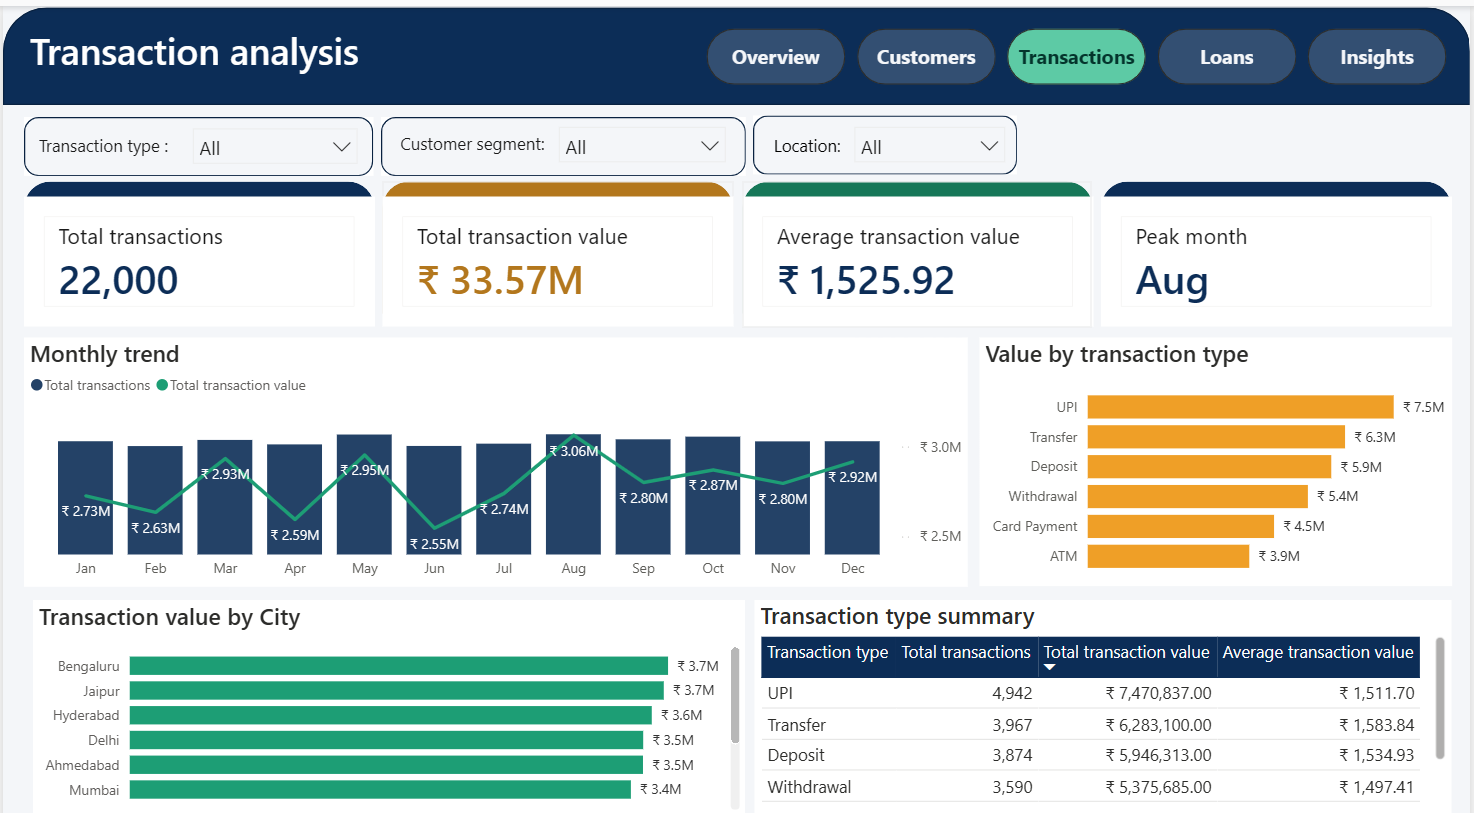

The page's visual inventory and layout, read from the dashboard file:
{"tool":"powerbi","page":{"name":"Transactions","canvas":[1280,720],"ordinal":2},"visuals":[{"type":"shape","box":[0,1.5,1279.5,85],"z":0},{"type":"textbox","box":[18.2,12.1,569.3,74.2],"z":1000},{"type":"shape","box":[18.2,153.4,305.5,115.1],"z":1000,"group":"g7"},{"type":"group","id":"g1","title":"Group 1","box":[18.3,96.5,304.4,51.5],"z":2000},{"type":"group","id":"g2","title":"Group 1","box":[329.1,95.5,318,53],"z":3000},{"type":"shape","box":[331.2,153.4,305.5,115.1],"z":3000,"group":"g6"},{"type":"pageNavigator","box":[613.3,19.7,649.6,50],"z":4000},{"type":"group","id":"g3","title":"Group 1","box":[653.4,95.4,230.2,51.5],"z":5000},{"type":"shape","box":[644.3,153.4,305.5,115.1],"z":5000,"group":"g5"},{"type":"shape","box":[653.4,95.4,230.2,51.6],"z":5500,"group":"g3"},{"type":"shape","box":[18.3,96.5,304.4,51.5],"z":5500,"group":"g1"},{"type":"shape","box":[329.1,97,318,51.5],"z":5500,"group":"g2"},{"type":"slicer","fields":{"Values":["Locations.City"]},"box":[732.1,95.4,151.4,48.5],"z":6000,"group":"g3"},{"type":"slicer","fields":{"Values":["Customers.Customer_Segment"]},"box":[474.4,95.5,165.6,50.2],"z":6000,"group":"g2"},{"type":"slicer","fields":{"Values":["Transactions.Transaction_Type"]},"box":[155.7,96.5,163.5,48.5],"z":6000,"group":"g1"},{"type":"lineClusteredColumnComboChart","title":"Monthly trend","fields":{"Category":["Date.Month"],"Y":["_Measures.Total transactions"],"Y2":["_Measures.Total transaction value"]},"box":[18.7,289.1,822.6,217.2],"z":6000},{"type":"shape","box":[957.3,153.4,305.5,115.1],"z":7000,"group":"g4"},{"type":"cardVisual","title":"Total Customers","fields":{"Data":["_Measures.Total transactions"]},"box":[18.2,166.5,305.9,113.6],"z":7000,"group":"g7"},{"type":"barChart","title":"Value by transaction type","fields":{"Y":["_Measures.Total transaction value"],"Category":["Transactions.Transaction_Type"]},"box":[851,289.2,411.9,216.5],"z":7000},{"type":"textbox","box":[340.3,105.1,145.9,31.6],"z":8000,"group":"g2"},{"type":"textbox","box":[666.9,105.4,69.2,30.3],"z":8000,"group":"g3"},{"type":"textbox","box":[25.9,105.6,137.8,39.4],"z":8000,"group":"g1"},{"type":"cardVisual","title":"Total Customers","fields":{"Data":["_Measures.Total transaction value"]},"box":[331.6,166.5,305.9,113.6],"z":8000,"group":"g6"},{"type":"tableEx","title":"Transaction type summary","fields":{"Values":["Transactions.Transaction_Type","_Measures.Total transactions","_Measures.Total transaction value","_Measures.Average transaction value"]},"box":[655.7,517.9,607.2,187.8],"z":8000},{"type":"group","id":"g4","title":"Group 2","box":[957,153.4,305.9,126.7],"z":9000},{"type":"cardVisual","title":"Total Customers","fields":{"Data":["_Measures.Average transaction value"]},"box":[644,166.5,305.9,113.6],"z":9000,"group":"g5"},{"type":"group","id":"g5","title":"Group 3","box":[644,153.4,305.9,126.7],"z":10000},{"type":"cardVisual","title":"Total Customers","fields":{"Data":["_Measures.Peak month"]},"box":[957,166.5,305.9,113.6],"z":10000,"group":"g4"},{"type":"group","id":"g6","title":"Group 4","box":[331.2,153.4,306.3,126.7],"z":11000},{"type":"group","id":"g7","title":"Group 5","box":[18.2,153.4,305.9,126.7],"z":12000},{"type":"clusteredBarChart","title":"Transaction value by City","fields":{"Category":["Customers.City"],"Y":["_Measures.Total transaction value"]},"box":[25.7,517.9,620.8,187.8],"z":13000}]}

Visuals, with their boxes in screenshot pixels (x1, y1, x2, y2), scaled from the page's 1280x720 canvas onto the 1474x813 screenshot:
shape: {"left": 0, "top": 2, "right": 1473, "bottom": 98}
textbox: {"left": 21, "top": 14, "right": 677, "bottom": 97}
shape: {"left": 21, "top": 173, "right": 373, "bottom": 303}
"Group 1" group: {"left": 21, "top": 109, "right": 372, "bottom": 167}
"Group 1" group: {"left": 379, "top": 108, "right": 745, "bottom": 168}
shape: {"left": 381, "top": 173, "right": 733, "bottom": 303}
pageNavigator: {"left": 706, "top": 22, "right": 1454, "bottom": 79}
"Group 1" group: {"left": 752, "top": 108, "right": 1018, "bottom": 166}
shape: {"left": 742, "top": 173, "right": 1094, "bottom": 303}
shape: {"left": 752, "top": 108, "right": 1018, "bottom": 166}
shape: {"left": 21, "top": 109, "right": 372, "bottom": 167}
shape: {"left": 379, "top": 110, "right": 745, "bottom": 168}
slicer - Locations.City: {"left": 843, "top": 108, "right": 1017, "bottom": 162}
slicer - Customers.Customer_Segment: {"left": 546, "top": 108, "right": 737, "bottom": 165}
slicer - Transactions.Transaction_Type: {"left": 179, "top": 109, "right": 368, "bottom": 164}
"Monthly trend" lineClusteredColumnComboChart: {"left": 22, "top": 326, "right": 969, "bottom": 572}
shape: {"left": 1102, "top": 173, "right": 1454, "bottom": 303}
"Total Customers" cardVisual: {"left": 21, "top": 188, "right": 373, "bottom": 316}
"Value by transaction type" barChart: {"left": 980, "top": 327, "right": 1454, "bottom": 571}
textbox: {"left": 392, "top": 119, "right": 560, "bottom": 154}
textbox: {"left": 768, "top": 119, "right": 848, "bottom": 153}
textbox: {"left": 30, "top": 119, "right": 189, "bottom": 164}
"Total Customers" cardVisual: {"left": 382, "top": 188, "right": 734, "bottom": 316}
"Transaction type summary" tableEx: {"left": 755, "top": 585, "right": 1454, "bottom": 797}
"Group 2" group: {"left": 1102, "top": 173, "right": 1454, "bottom": 316}
"Total Customers" cardVisual: {"left": 742, "top": 188, "right": 1094, "bottom": 316}
"Group 3" group: {"left": 742, "top": 173, "right": 1094, "bottom": 316}
"Total Customers" cardVisual: {"left": 1102, "top": 188, "right": 1454, "bottom": 316}
"Group 4" group: {"left": 381, "top": 173, "right": 734, "bottom": 316}
"Group 5" group: {"left": 21, "top": 173, "right": 373, "bottom": 316}
"Transaction value by City" clusteredBarChart: {"left": 30, "top": 585, "right": 744, "bottom": 797}
